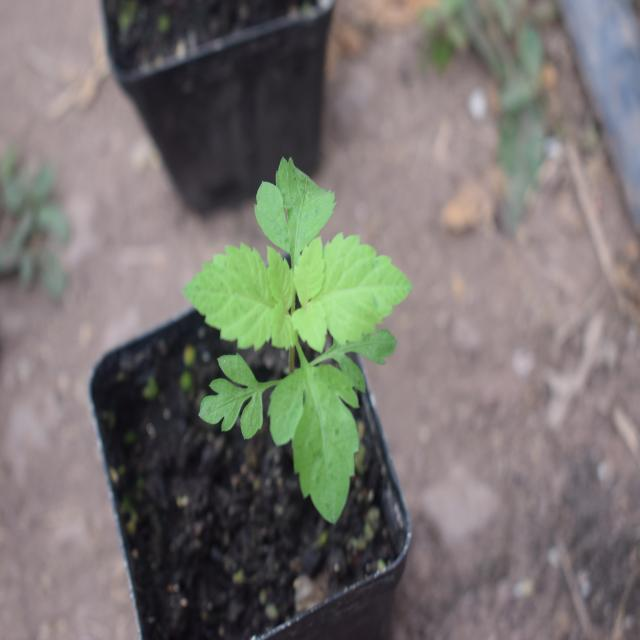Bidens pilosa: (183, 160, 418, 540)
